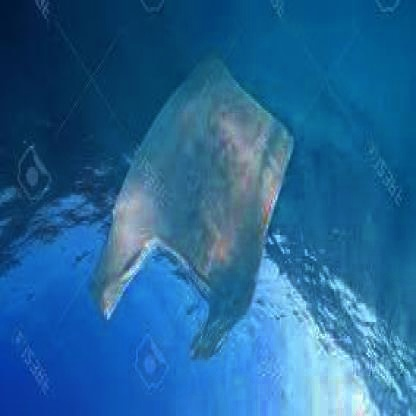pbag: (89, 49, 296, 360)
